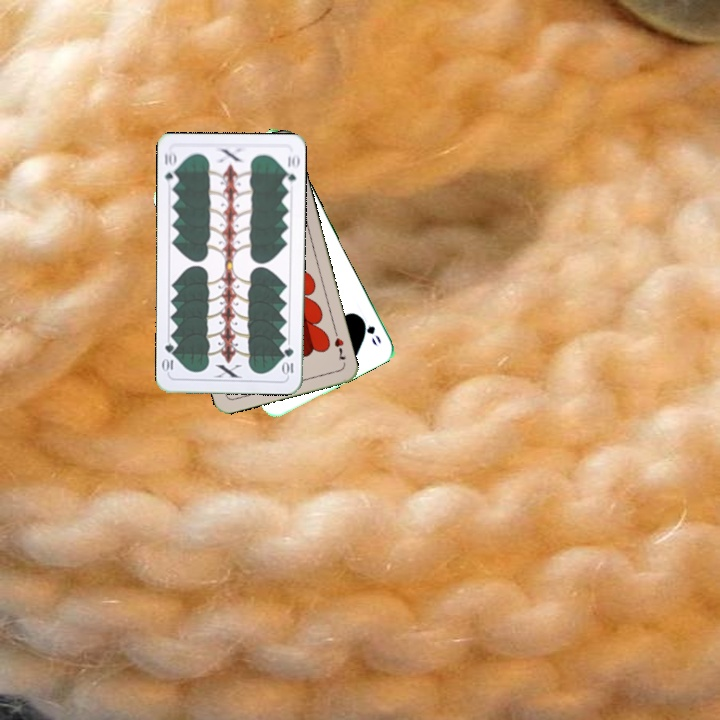G10: (160, 148, 180, 189), (280, 343, 296, 378)
GO: (355, 312, 384, 348)
H7: (330, 326, 348, 363)
